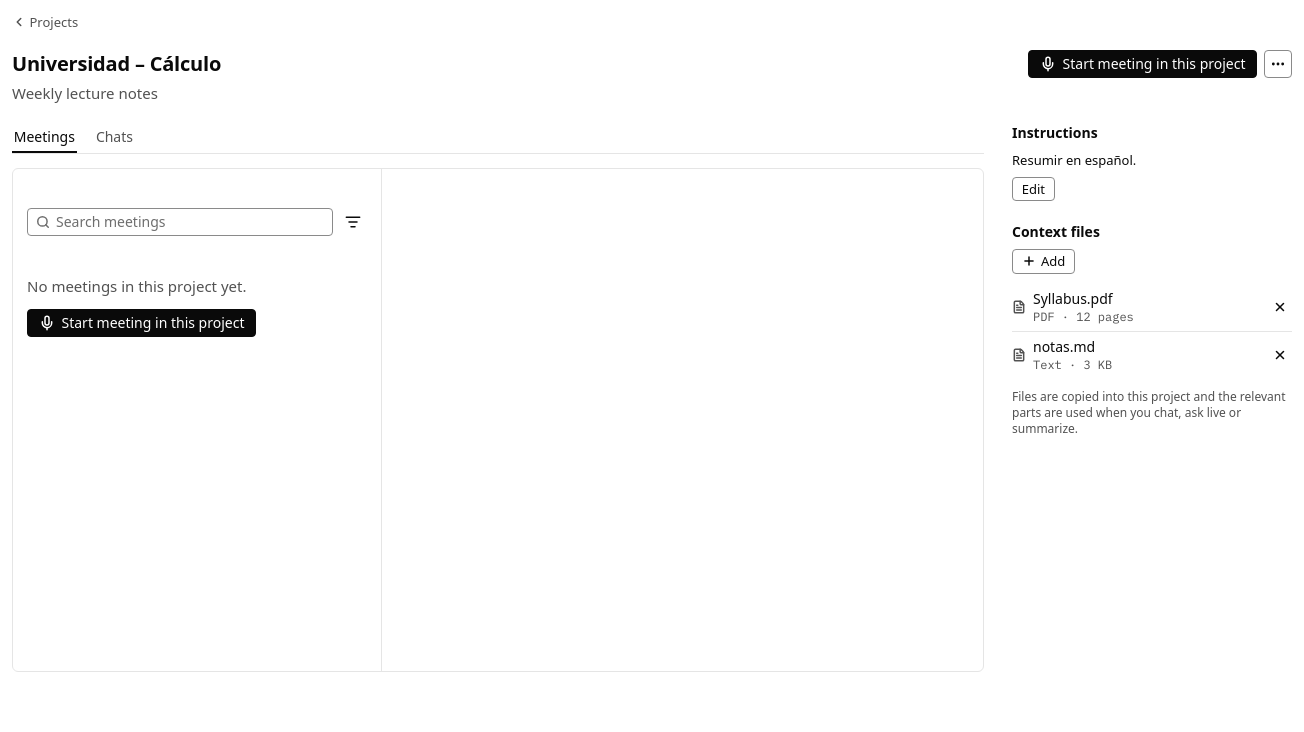
the header › says the name is taken where it is typed, and keeps the field open
Click the button named "Project actions" at (1278, 64), box [1264,50,1292,78]
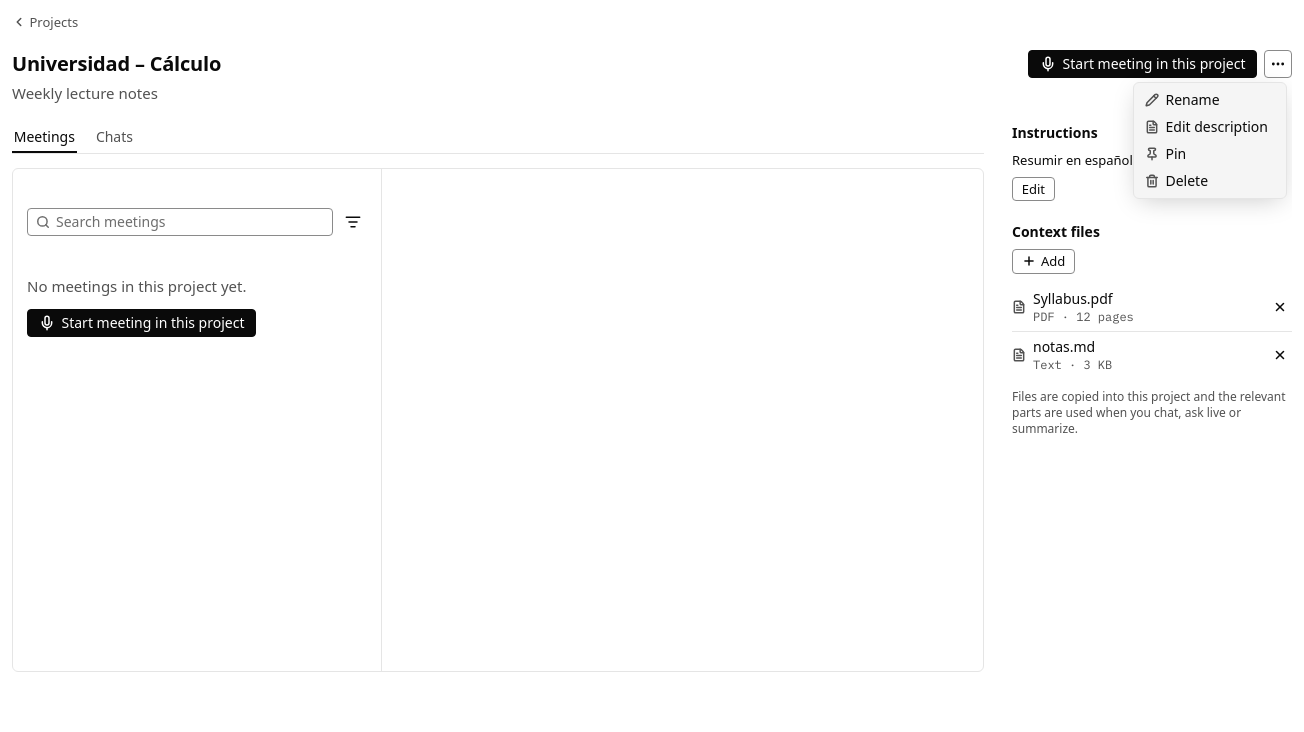
Click the menu item "Rename" at (1182, 100), box [1144,90,1220,109]
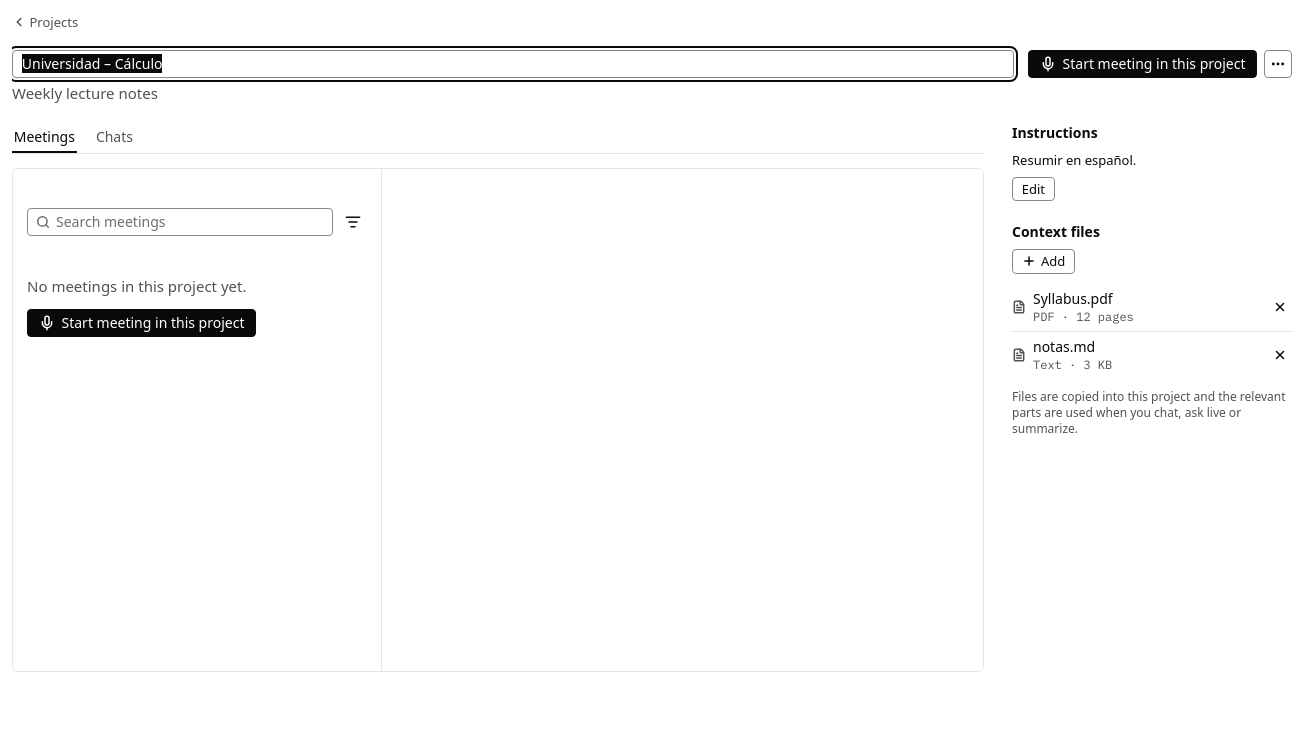
Replace the text in the field named "Name" with "producto q4" at (513, 64), box [12,50,1014,78]
Then press Enter
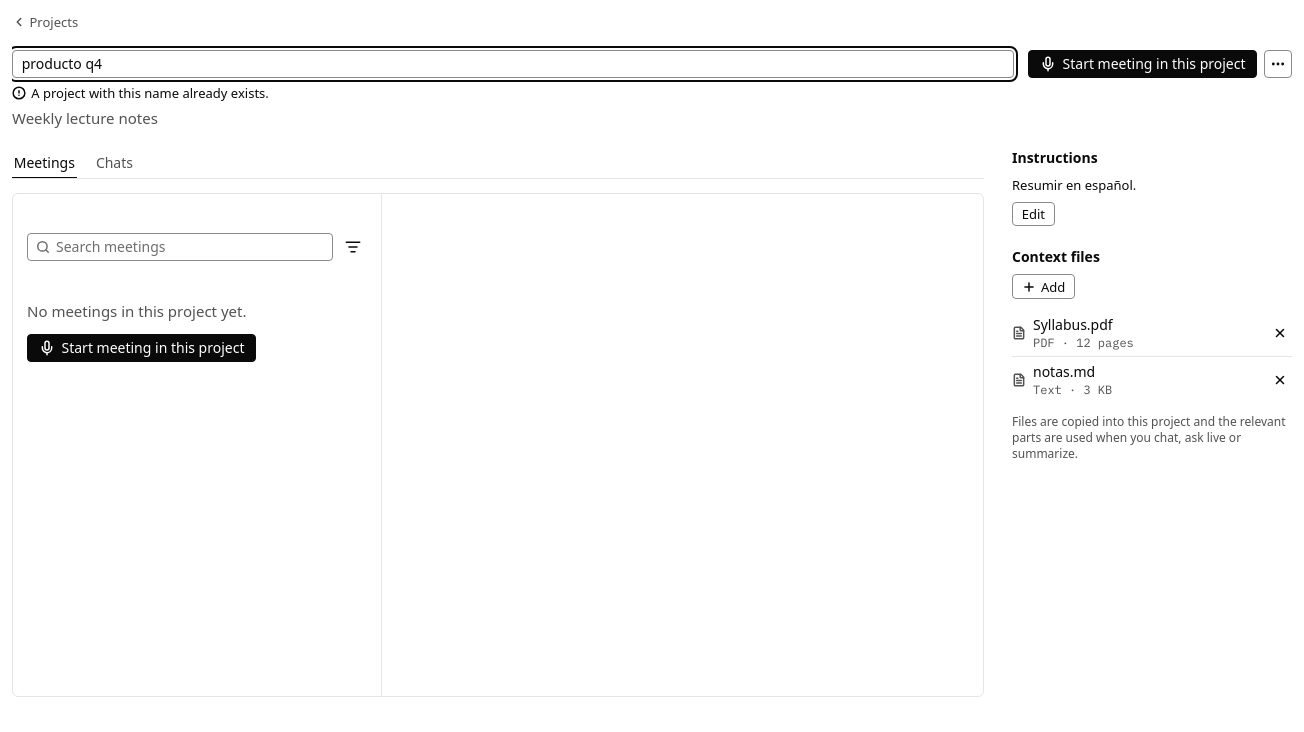
Expected: the text "A project with this name already exists." is shown, [31,83,269,103]
